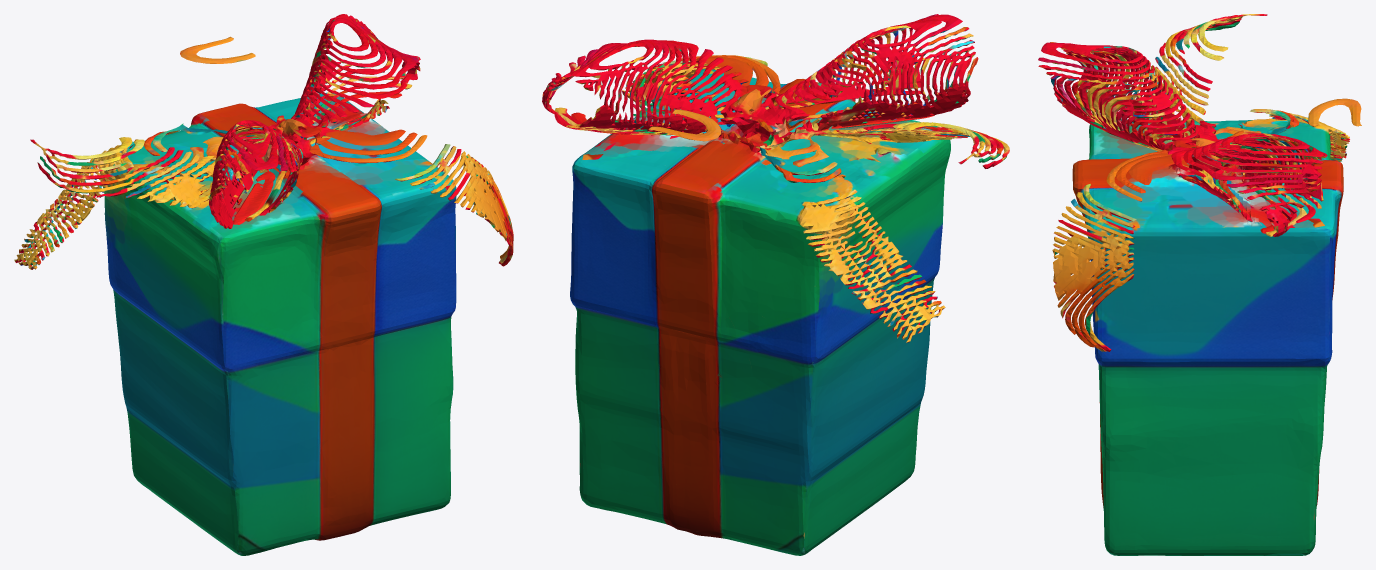
The model's file is gift1.glb.
3 renders of one model, left to right at view 1: azimuth 30°, elevation 25°; view 2: azimuth 150°, elevation 25°; view 3: azimuth 270°, elevation 25°, orthographic. The views are drawn at different scales.
Parts seen in each view (by area): view 1: tmpmmt_tz1m.ply; view 2: tmpmmt_tz1m.ply; view 3: tmpmmt_tz1m.ply.
Boxes of the visible parts, bbox=[...] form: tmpmmt_tz1m.ply: bbox=[14, 14, 513, 555]; tmpmmt_tz1m.ply: bbox=[542, 14, 1009, 555]; tmpmmt_tz1m.ply: bbox=[1038, 14, 1361, 555].
Bounding box in the file's own units: 1.81 × 1.83 × 1.29.
Materials: 1 (1 with a texture image).
